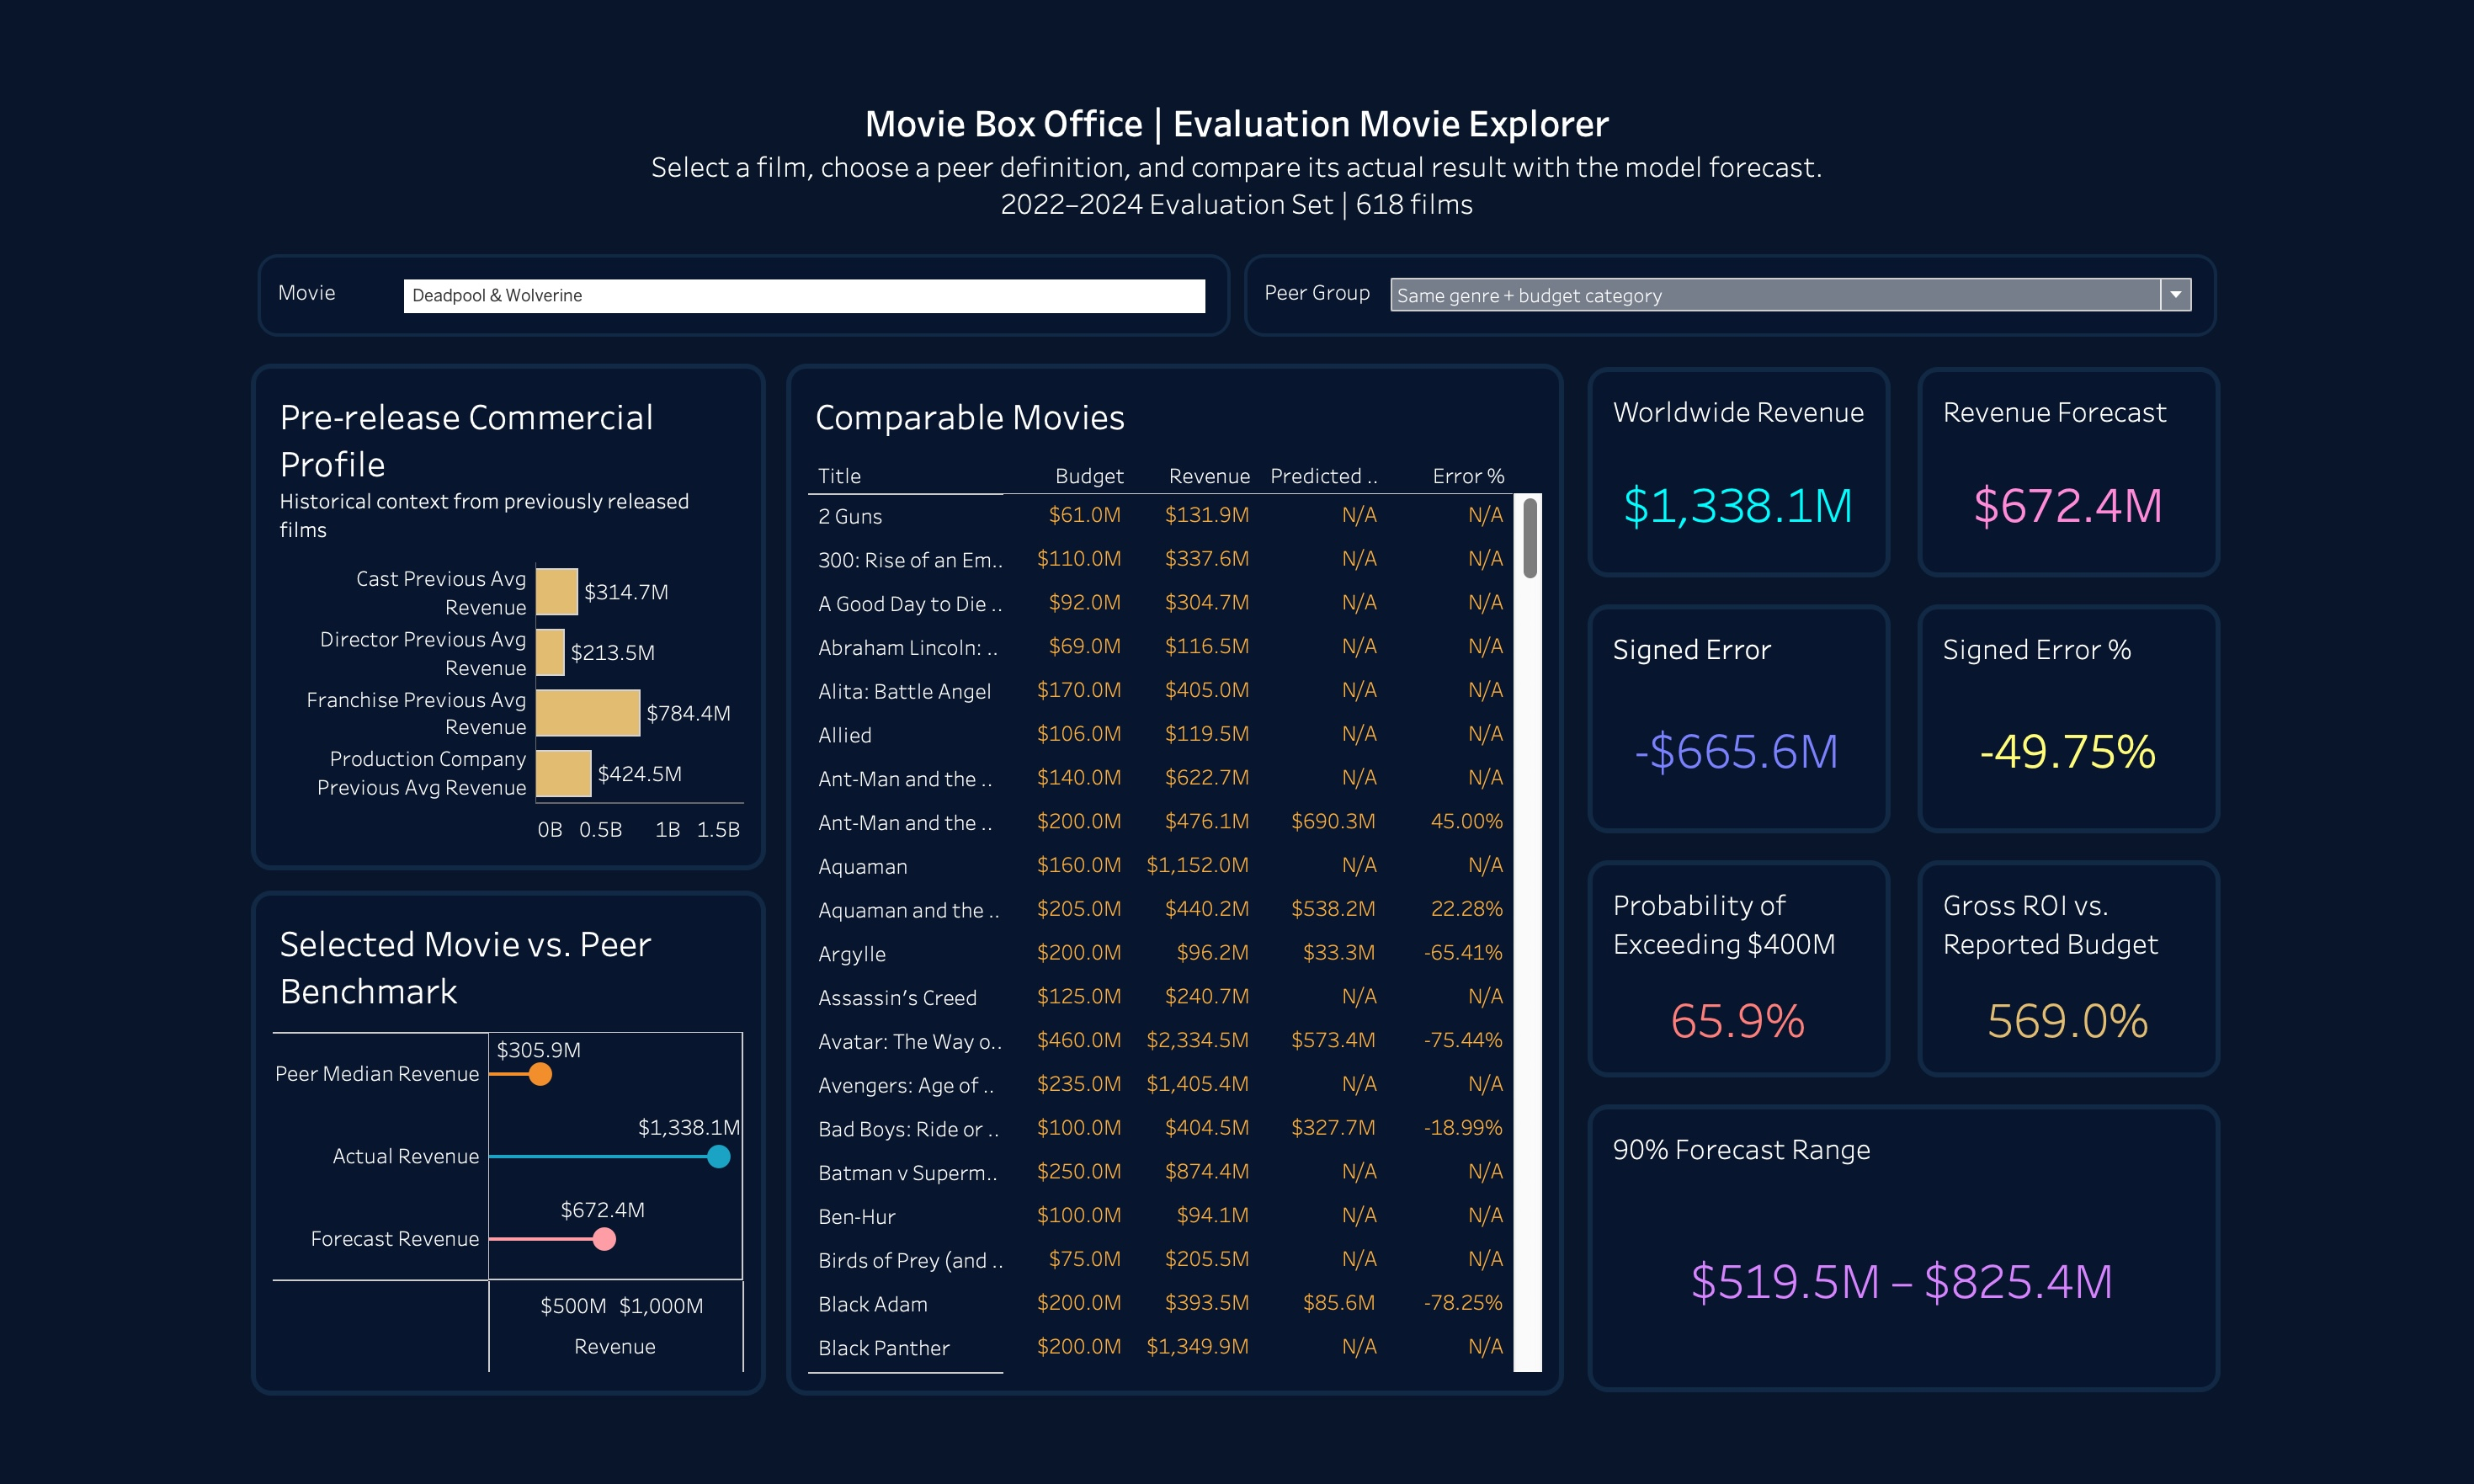

The page's visual inventory and layout, read from the dashboard file:
{"tool":"tableau","page":{"name":"Movie Explorer","canvas":[1200,800],"ordinal":1},"visuals":[{"type":"text","box":[8,8,1184,90]},{"type":"parameter","param":"[Parameters].[Parameter 2689588009201675]","box":[14,104,586,57]},{"type":"parameter","param":"[Parameters].[Parameter 0970155883434003]","box":[600,104,586,57]},{"type":"worksheet","title":"07_PreRelease_Profile","mark":"Bar","box":[8,167,318,312.5]},{"type":"worksheet","title":"08_Peer_Comparison","mark":"Automatic","rows":["title"],"box":[326,167,474,625]},{"type":"worksheet","title":"02_KPI_Revenue","mark":"Text","box":[800,167,196,140.9]},{"type":"worksheet","title":"04_KPI_Forecast","mark":"Automatic","box":[996,167,196,140.9]},{"type":"worksheet","title":"prediction error","mark":"Automatic","box":[800,307.9,196,152.1]},{"type":"worksheet","title":"Sheet 27","mark":"Automatic","box":[996,307.9,196,152.1]},{"type":"worksheet","title":"prob_400","mark":"Automatic","box":[800,460,196,145]},{"type":"worksheet","title":"03_KPI_ROI","mark":"Automatic","box":[996,460,196,145]},{"type":"worksheet","title":"09_Selected_vs_Peer_Benchmark","mark":"Circle","box":[8,479.5,318,312.5]},{"type":"worksheet","title":"05_KPI_Blockbuster_Risk","mark":"Text","box":[800,605,392,187]}]}

Visuals, with their boxes on the page's 1200x800 design canvas (x1, y1, x2, y2). These are canvas units, not pixel positions in the 2474x1484 screenshot, which may show the page scaled, cropped or inside an application window:
text: select_region(8, 8, 1192, 98)
parameter: select_region(14, 104, 600, 161)
parameter: select_region(600, 104, 1186, 161)
"07_PreRelease_Profile" worksheet (Bar marks): select_region(8, 167, 326, 480)
"08_Peer_Comparison" worksheet: select_region(326, 167, 800, 792)
"02_KPI_Revenue" worksheet (Text marks): select_region(800, 167, 996, 308)
"04_KPI_Forecast" worksheet: select_region(996, 167, 1192, 308)
"prediction error" worksheet: select_region(800, 308, 996, 460)
"Sheet 27" worksheet: select_region(996, 308, 1192, 460)
"prob_400" worksheet: select_region(800, 460, 996, 605)
"03_KPI_ROI" worksheet: select_region(996, 460, 1192, 605)
"09_Selected_vs_Peer_Benchmark" worksheet (Circle marks): select_region(8, 480, 326, 792)
"05_KPI_Blockbuster_Risk" worksheet (Text marks): select_region(800, 605, 1192, 792)
